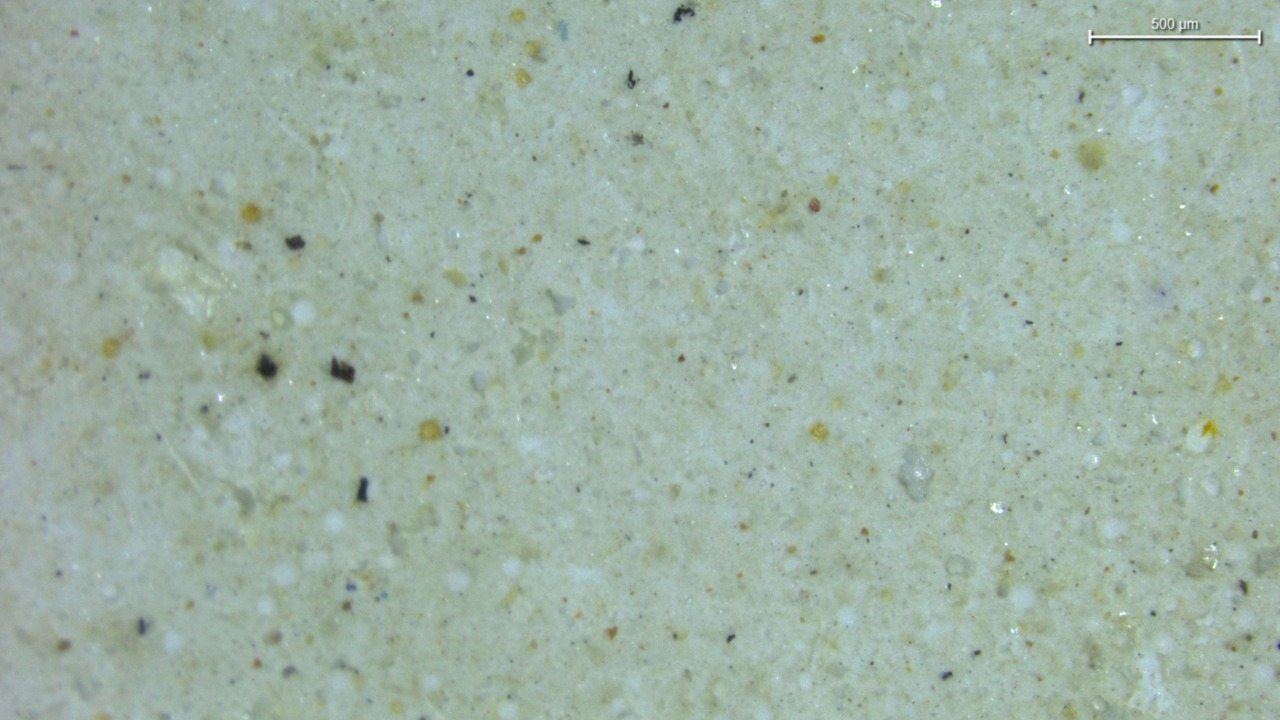microplastic_fragment: (897, 444, 933, 501), (545, 288, 575, 313), (470, 372, 488, 394)
